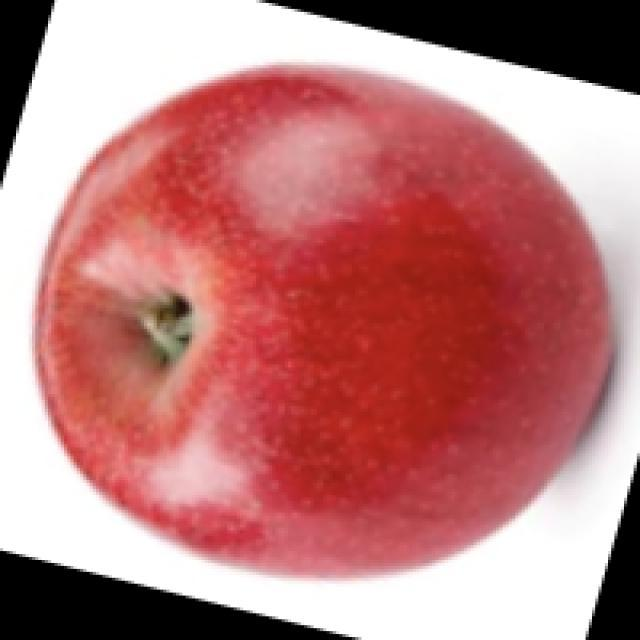Fresh Apple: (40, 60, 625, 553)
